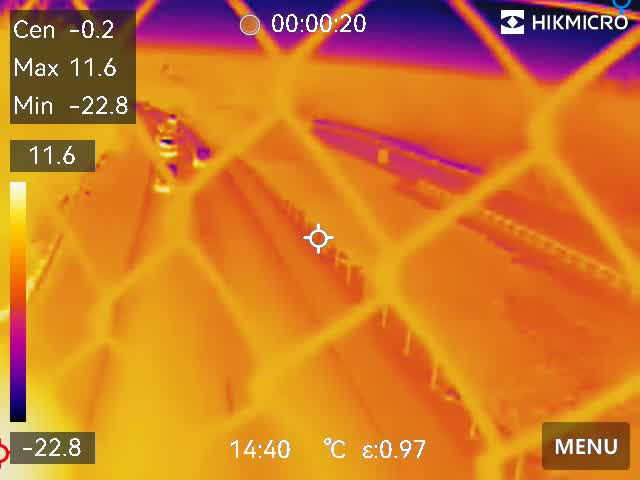vehicle: (191, 144, 213, 177), (157, 137, 177, 158)
